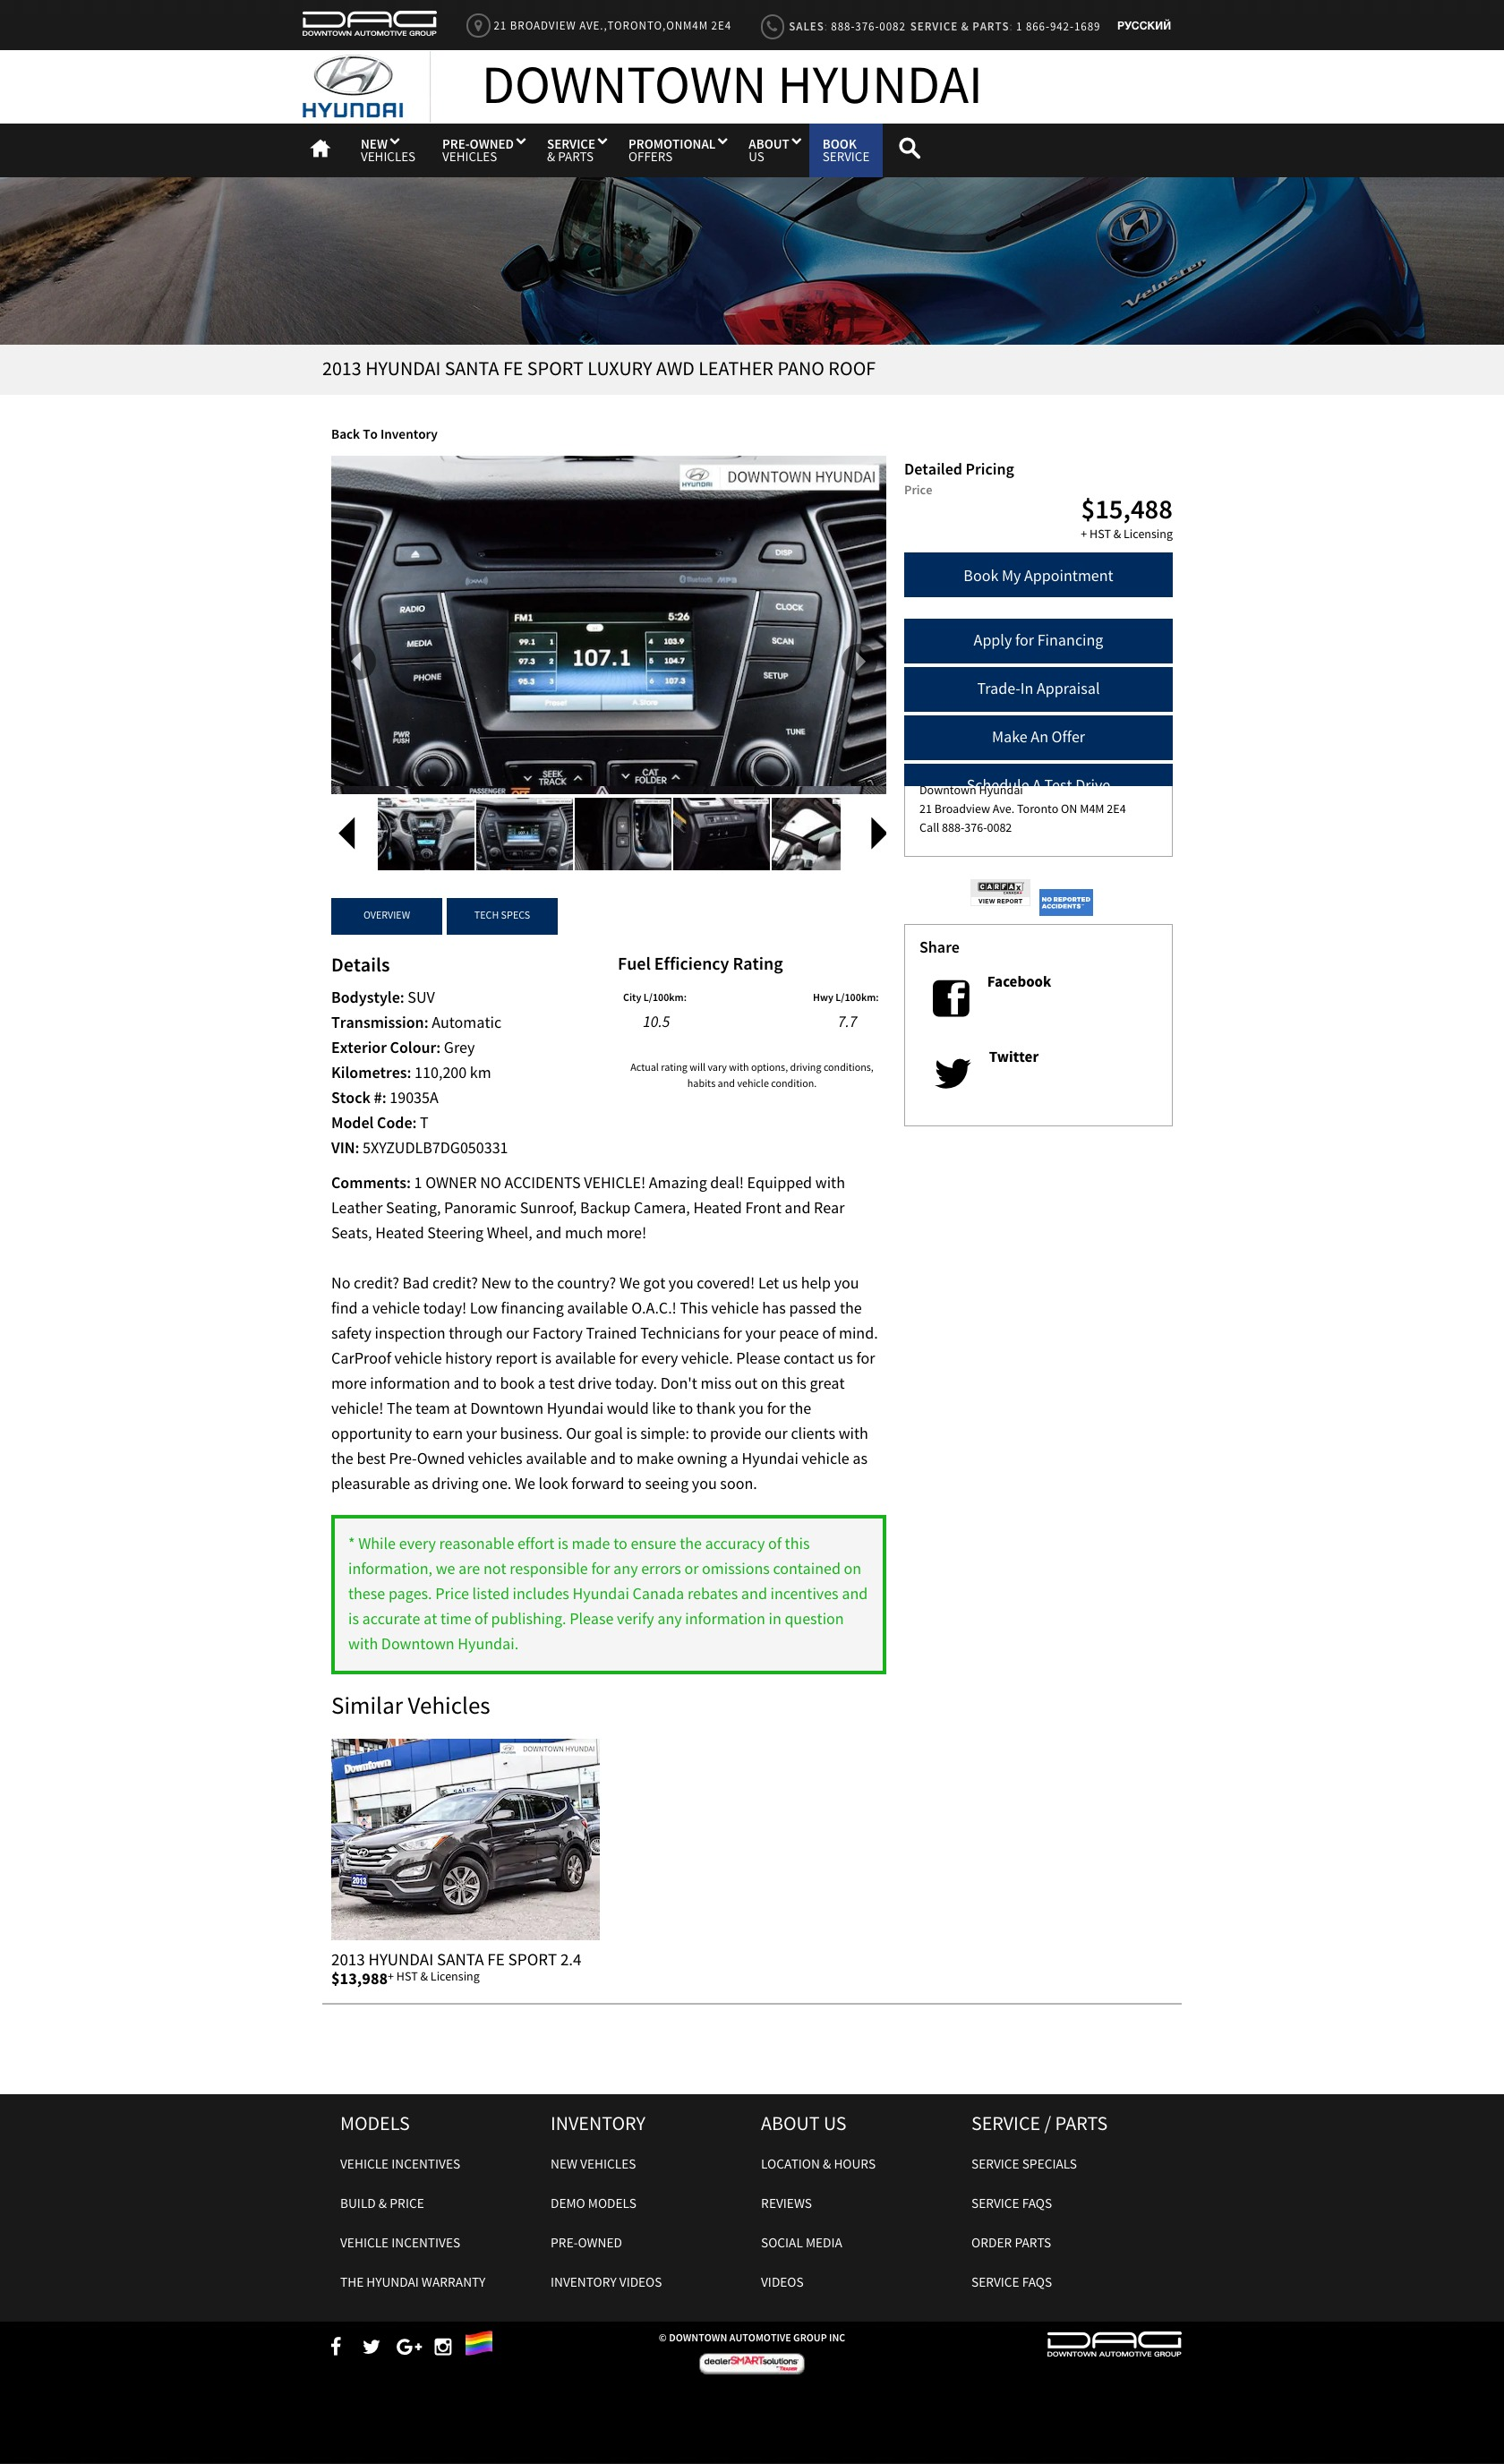car: (871, 815, 888, 850)
